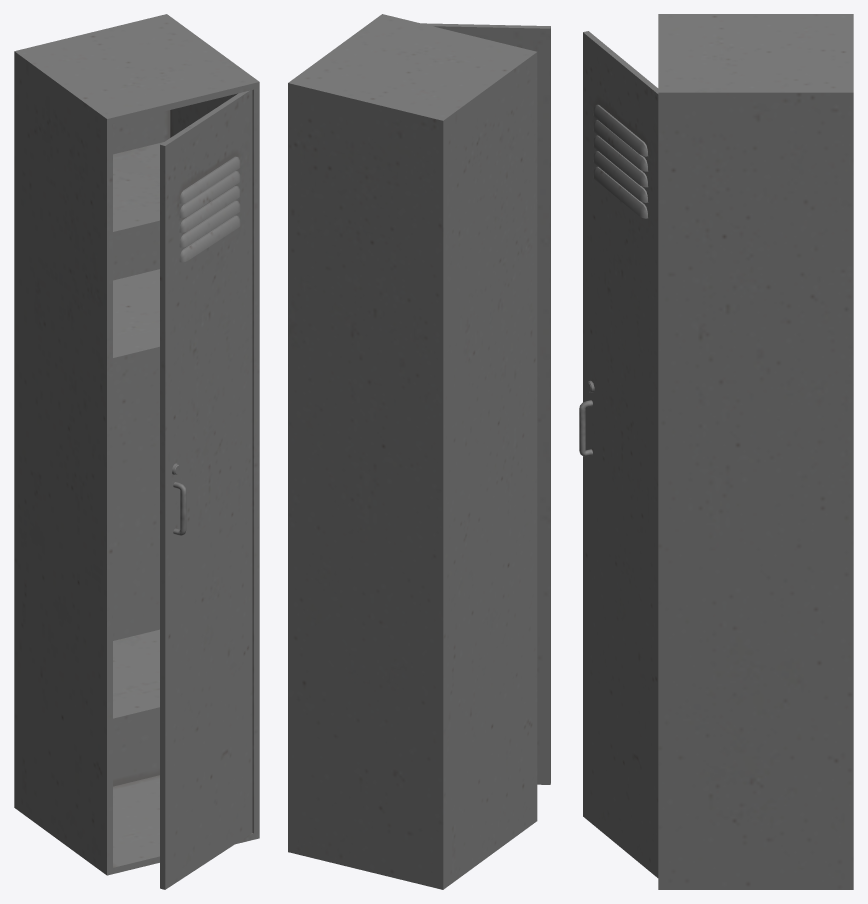
File: Locker.fbx
3 renders of one model, left to right at view 1: azimuth 30°, elevation 25°; view 2: azimuth 150°, elevation 25°; view 3: azimuth 270°, elevation 25°, orthographic. The views are drawn at different scales.
Parts seen in each view (by area): view 1: Locker; view 2: Locker; view 3: Locker.
Boxes of the visible parts, x1,y1,x2,y2 form: Locker: [14, 14, 259, 889]; Locker: [288, 14, 550, 889]; Locker: [579, 14, 853, 889].
Size of the model in its own units: 117 by 554 by 173.
